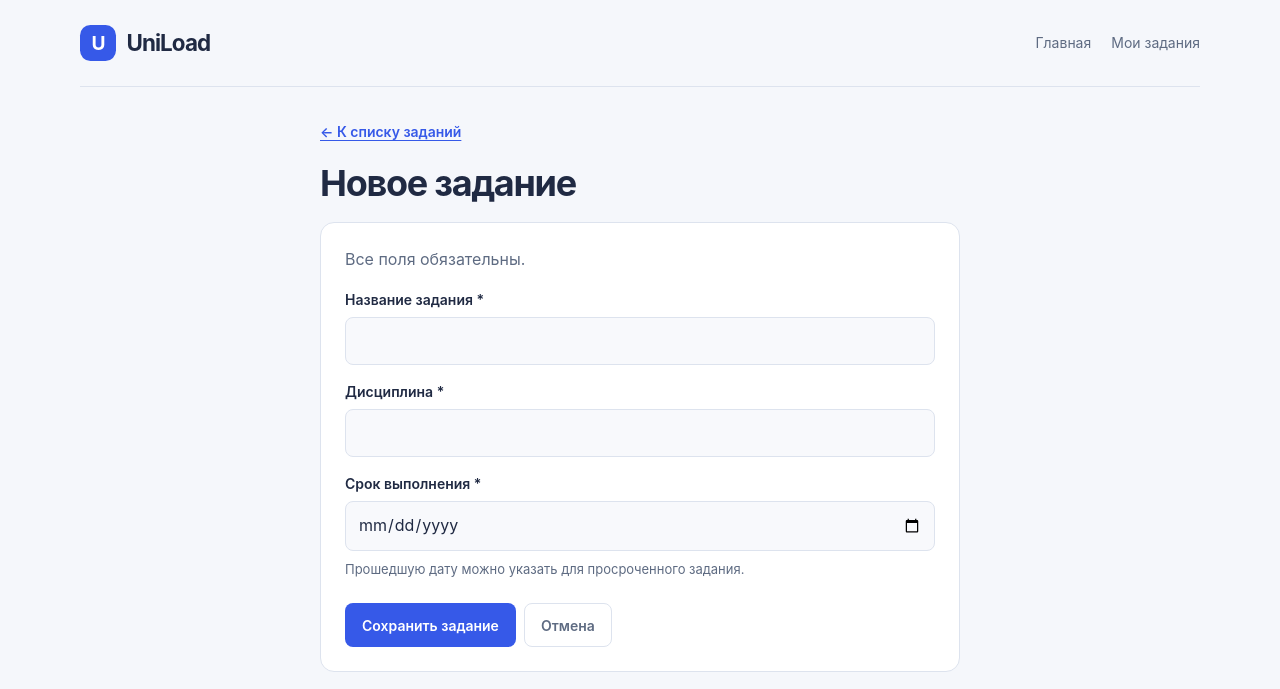
Test: FR-02: невалидная форма в приложении › T08: ошибка формы не создаёт запись и не меняет сохранённый список
Click the button "Сохранить задание".
click(430, 625)  # box [345,603,516,647]
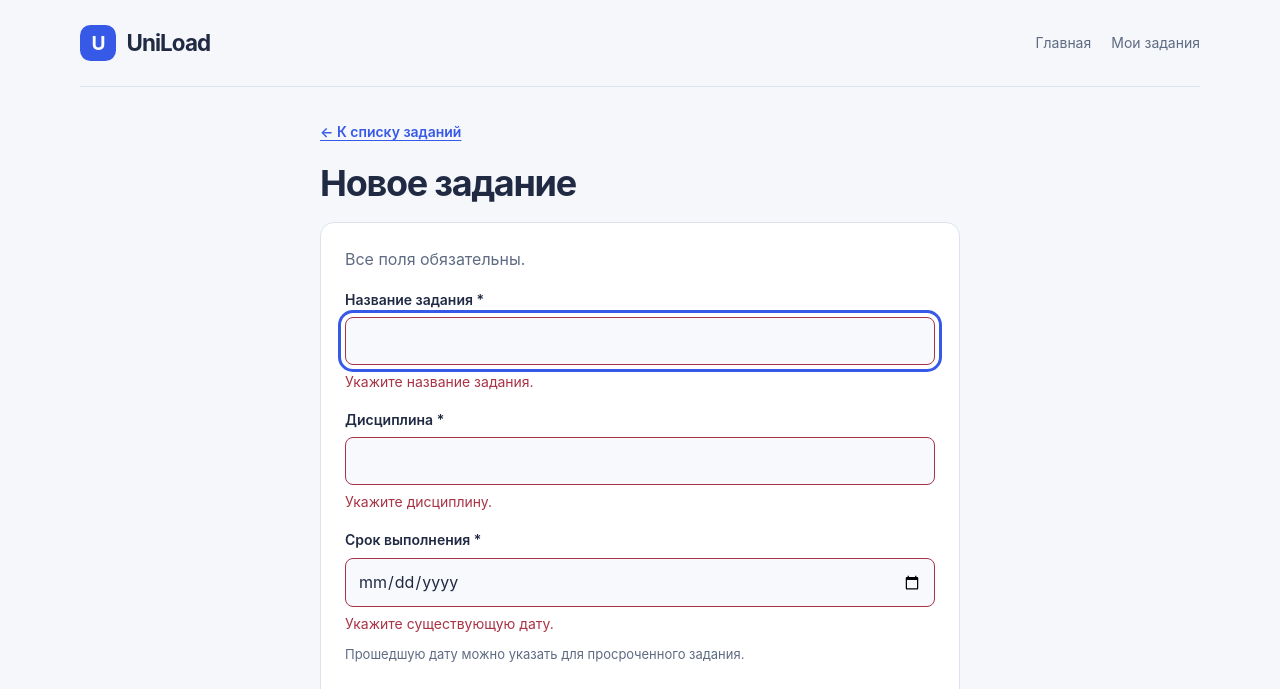
Expected: the heading "Новое задание" is shown, [320,161,576,205]
Expected: the text "Укажите название задания." is shown, [345,373,534,390]
